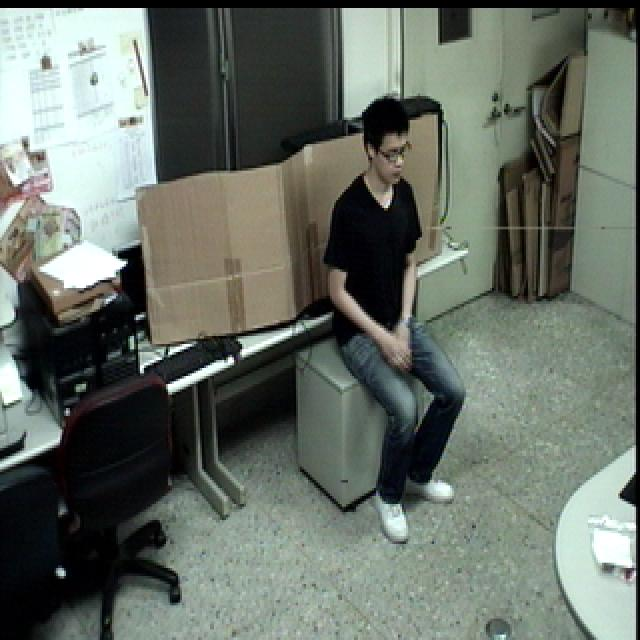sit: (314, 91, 474, 550)
